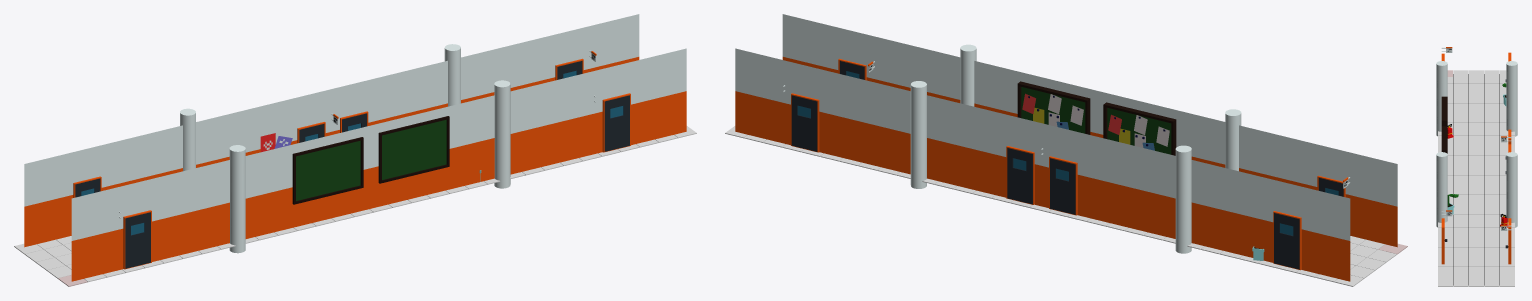
The model's file is 스테이지1_초안.fbx.
3 views of the same model, side by side, from view 1: azimuth 30°, elevation 25°; view 2: azimuth 150°, elevation 25°; view 3: azimuth 270°, elevation 25° (orthographic). The views are drawn at different scales.
Visible parts, largest first — view 1: Plane_2_4, Plane_1_4, Cube_2_3, Cube_2, Cylinder_1, Cylinder, Boolean_1_2, Boolean_1, Boolean, Boolean_2, Cylinder_3, Cylinder_2; view 2: Plane_1_4, Plane_2_4, Cylinder_2, Cylinder_3, Boolean_1_5, Cube_2, Boolean_1_6, Cube_2_3, Boolean_1_3, Boolean_1_4, Cylinder_1, Cylinder (+2 smaller); view 3: Cylinder_2, Cylinder_3, Cylinder_1, Plane_4_3, Cylinder, Boolean, Boolean_2, Boolean_4, Boolean_7, Cube_37, Cube_39, Cube_48 (+121 smaller).
Boxes of the visible parts, x1,y1,x2,y2 form: Plane_2_4: (71,48,686,281); Plane_1_4: (24,14,639,247); Cube_2_3: (382,119,446,179); Cube_2: (296,140,360,200); Cylinder_1: (494,80,510,188); Cylinder: (229,145,245,253); Boolean_1_2: (604,95,629,151); Boolean_1: (125,212,150,268); Boolean: (292,137,363,204); Boolean_2: (378,116,449,183); Cylinder_3: (444,44,460,106); Cylinder_2: (180,108,195,171); Plane_1_4: (735,48,1350,281); Plane_2_4: (782,14,1397,247); Cylinder_2: (1175,145,1191,253); Cylinder_3: (910,81,926,188); Boolean_1_5: (791,95,817,151); Cube_2: (1107,108,1171,154); Boolean_1_6: (1007,148,1032,204); Cube_2_3: (1021,87,1085,133); Boolean_1_3: (1274,213,1299,269); Boolean_1_4: (1050,158,1075,214); Cylinder_1: (960,44,976,106); Cylinder: (1225,109,1241,171); Cylinder_2: (1506,61,1517,136); Cylinder_3: (1506,152,1517,227); Cylinder_1: (1436,152,1447,227); Plane_4_3: (1453,74,1499,285); Cylinder: (1436,61,1447,136); Boolean: (1441,96,1447,126); Boolean_2: (1441,126,1447,153); Boolean_4: (1441,218,1444,264); Boolean_7: (1508,218,1511,264); Cube_37: (1453,96,1468,103); Cube_39: (1453,109,1468,116); Cube_48: (1453,168,1468,175).
Bounding box in the file's own units: 9235 × 1424 × 1471.
